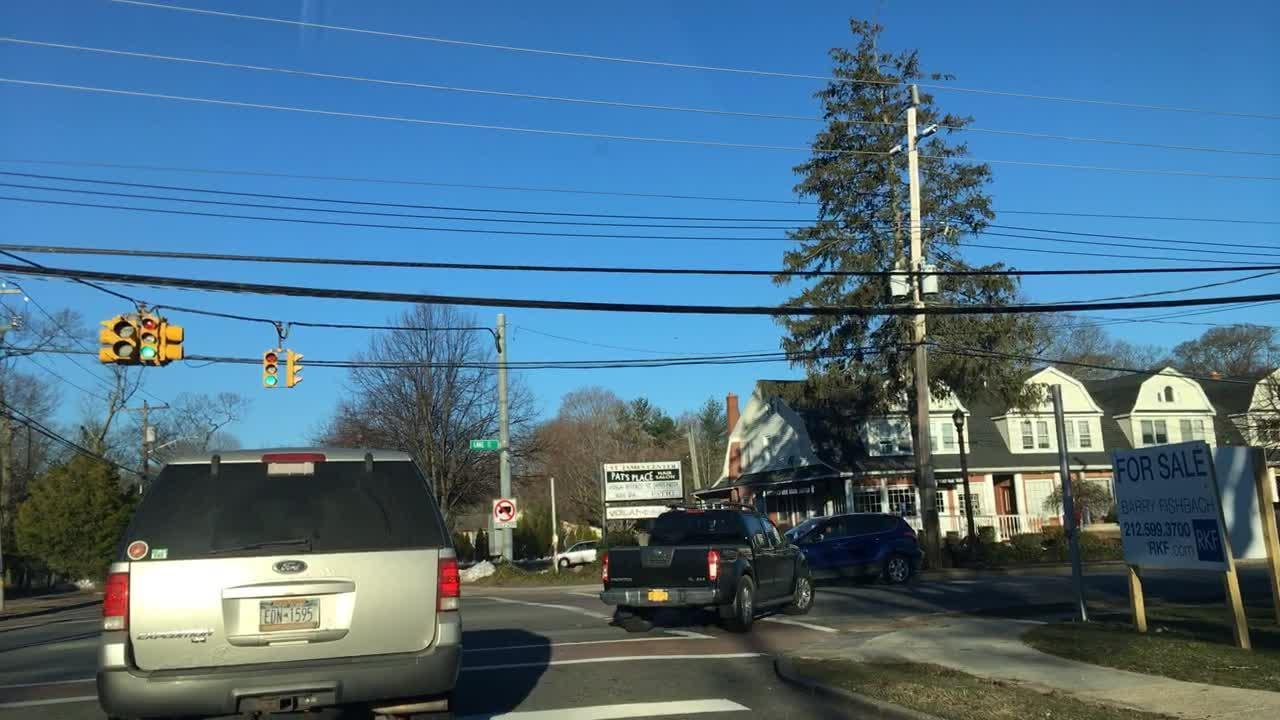ford: (269, 557, 309, 576)
